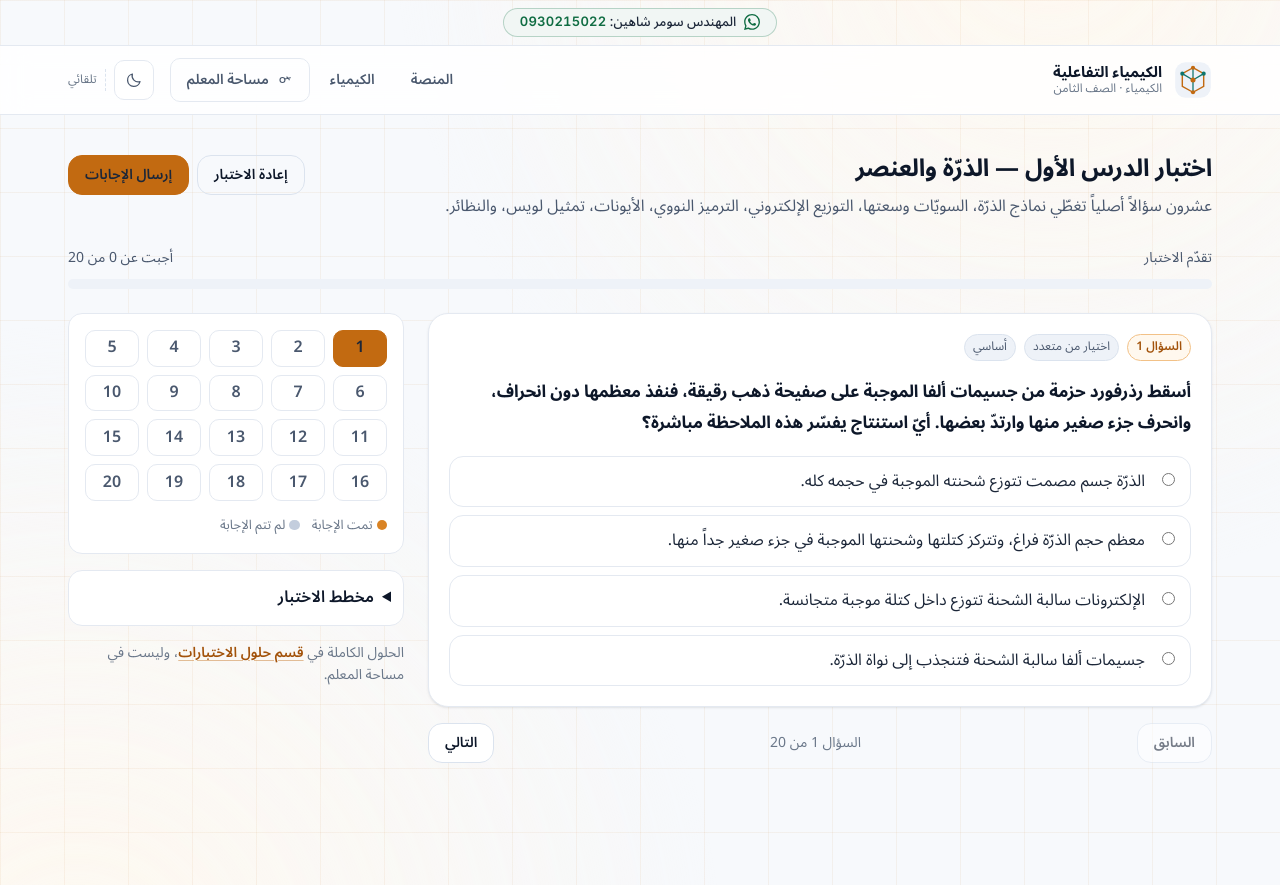
Test case: Attempt › restart erases the attempt: answers, progress and result
This screenshot has width=1280, height=885.
Expected: the heading "اختبار الدرس الأول — الذرّة والعنصر" is shown, x1=856 y1=143 x2=1212 y2=194
Click the 2nd radio button at [1168, 539], box x1=1162 y1=532 x2=1175 y2=546
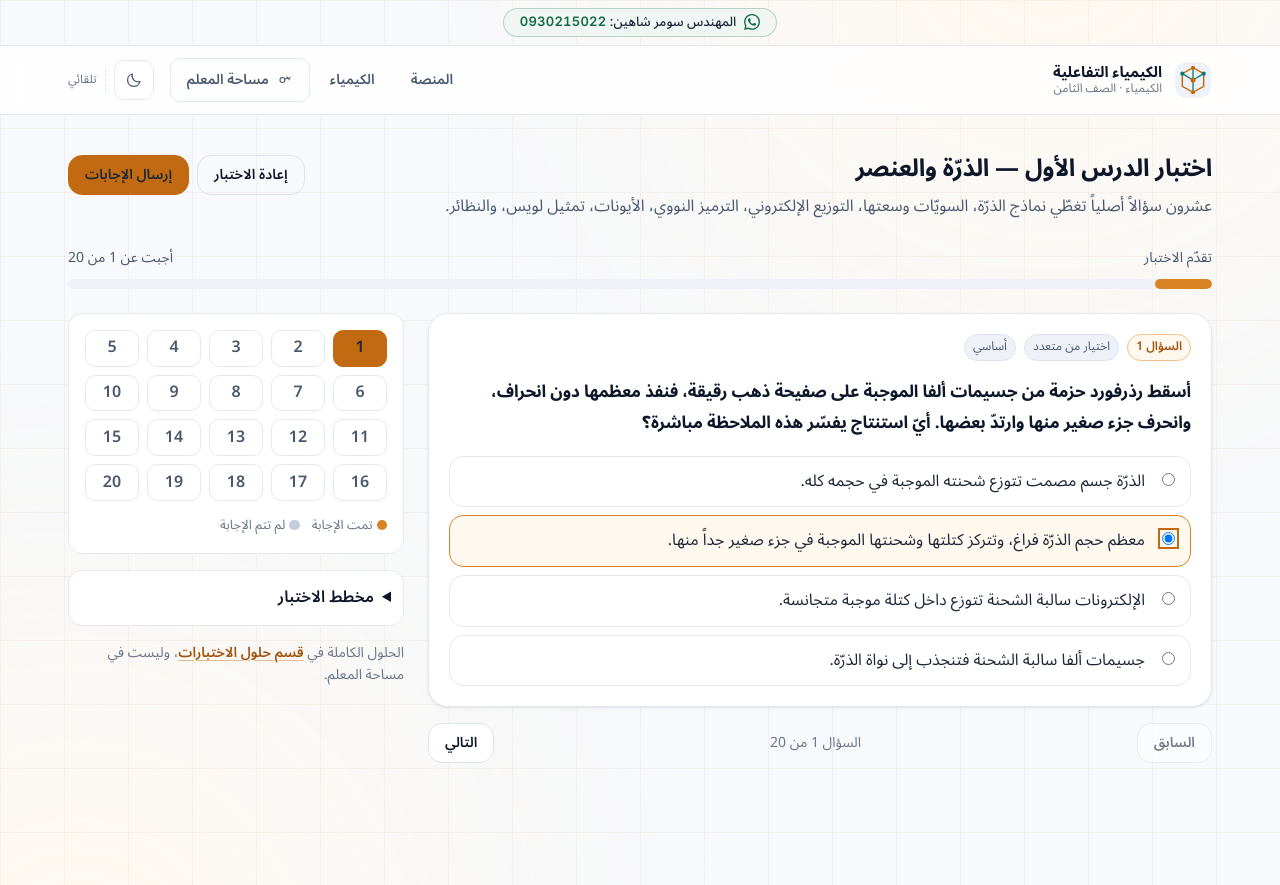
Click the button "إرسال الإجابات" at [128, 175], box x1=68 y1=155 x2=189 y2=195
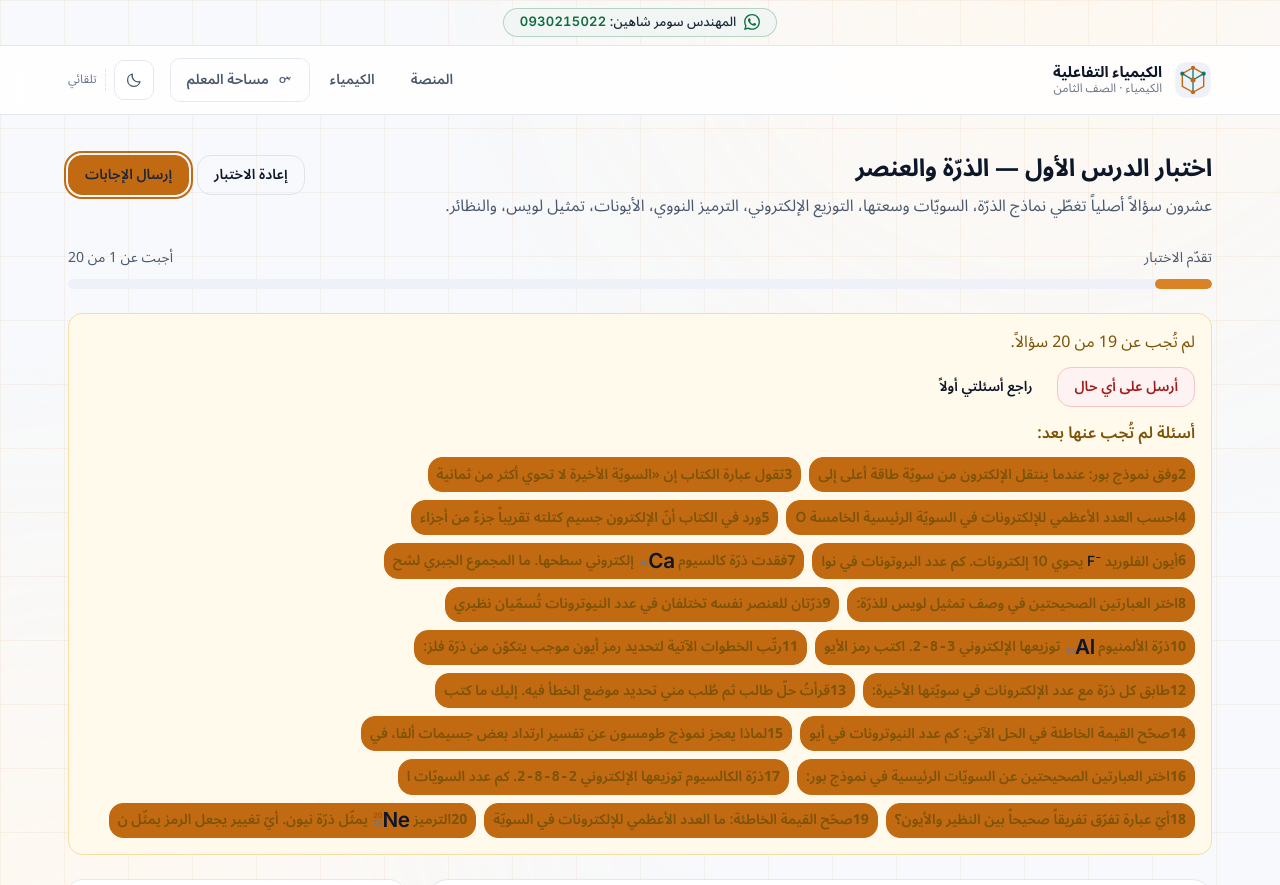
Click the button "أرسل على أي حال" at [1126, 387], box x1=1058 y1=367 x2=1195 y2=407
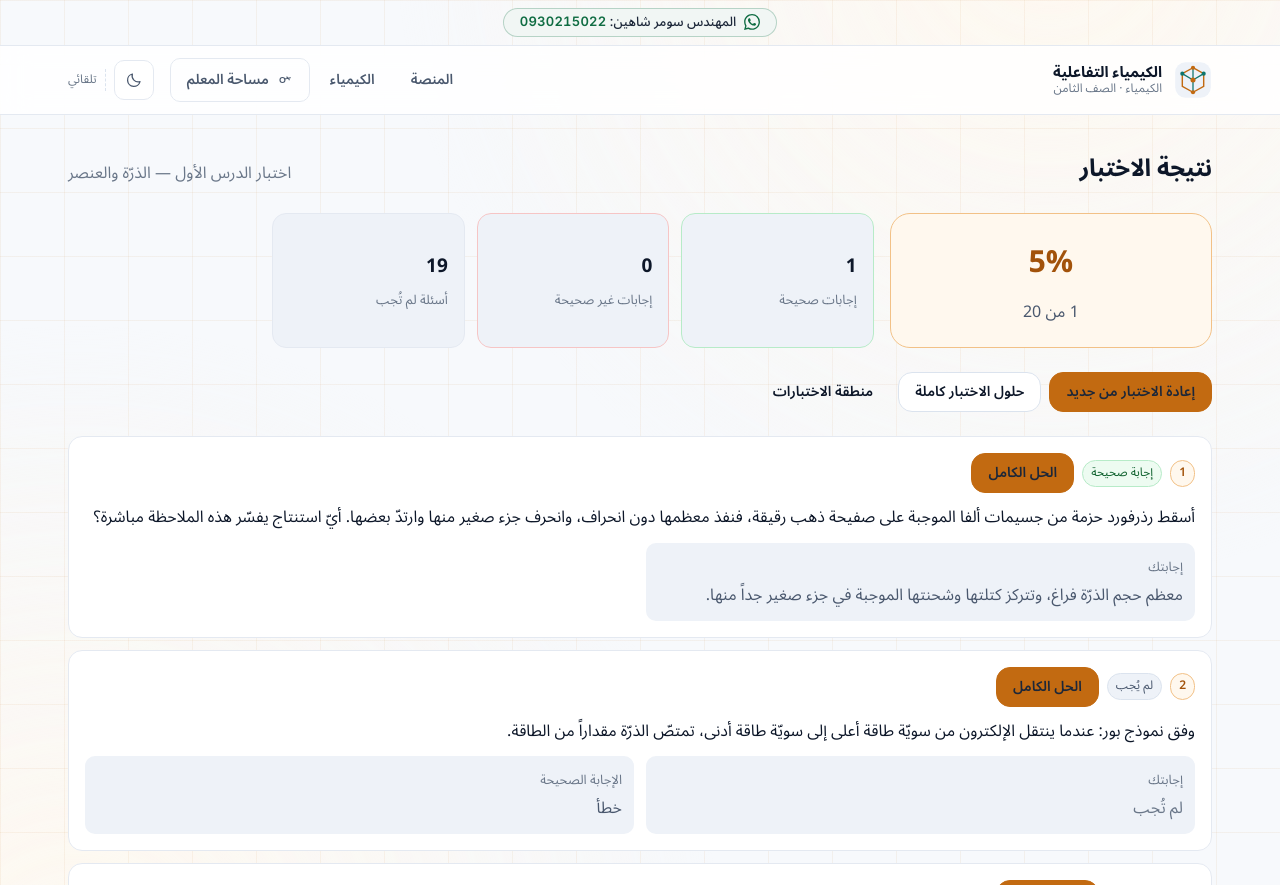
Expected: the heading "نتيجة الاختبار" is shown, x1=1080 y1=155 x2=1212 y2=184
Click the button "إعادة الاختبار من جديد" at [1131, 392], box x1=1049 y1=372 x2=1212 y2=412
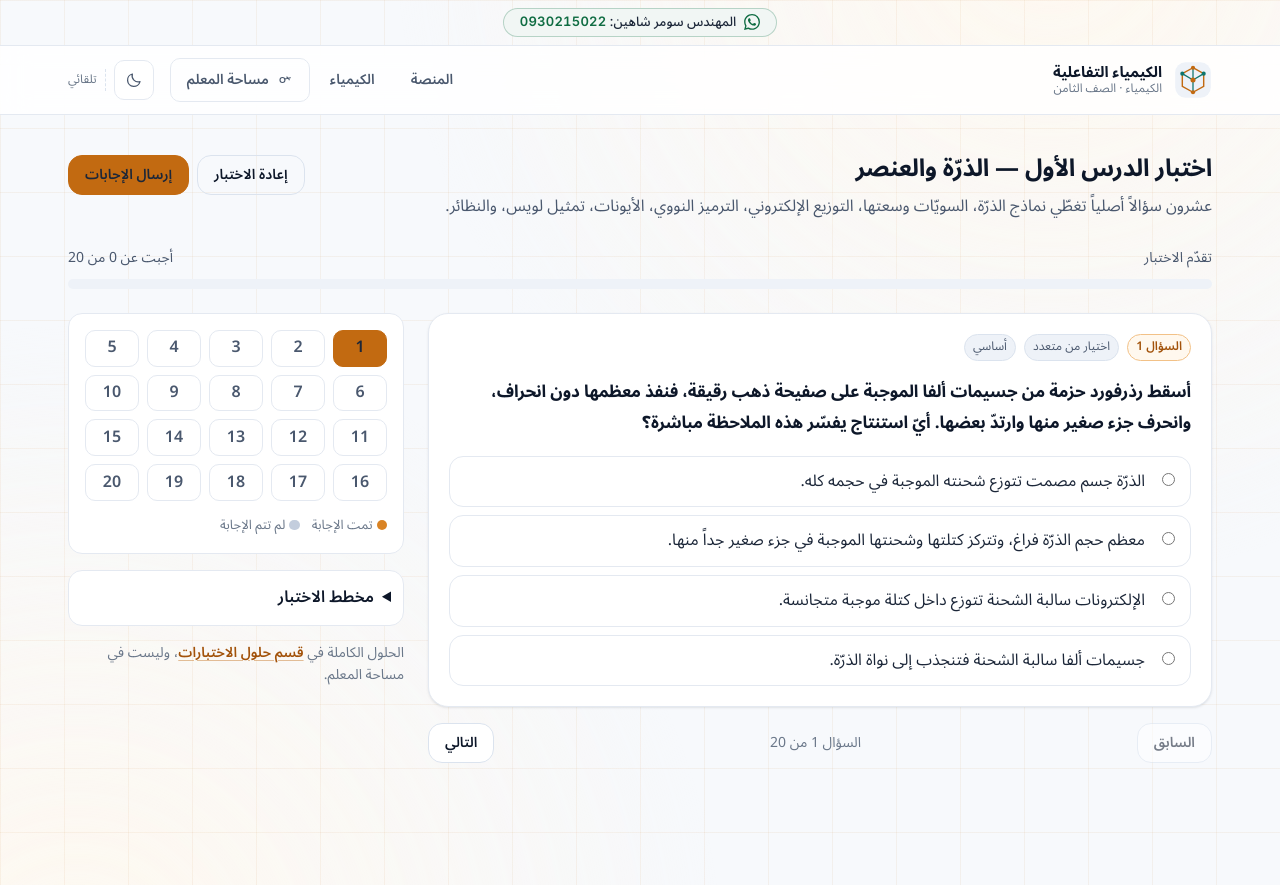
Expected: the heading "نتيجة الاختبار" is gone
Expected: the text "السؤال 1 من 20" is shown, x1=770 y1=730 x2=861 y2=756
Expected: the text "أجبت عن 0 من 20" is shown, x1=68 y1=245 x2=173 y2=271
